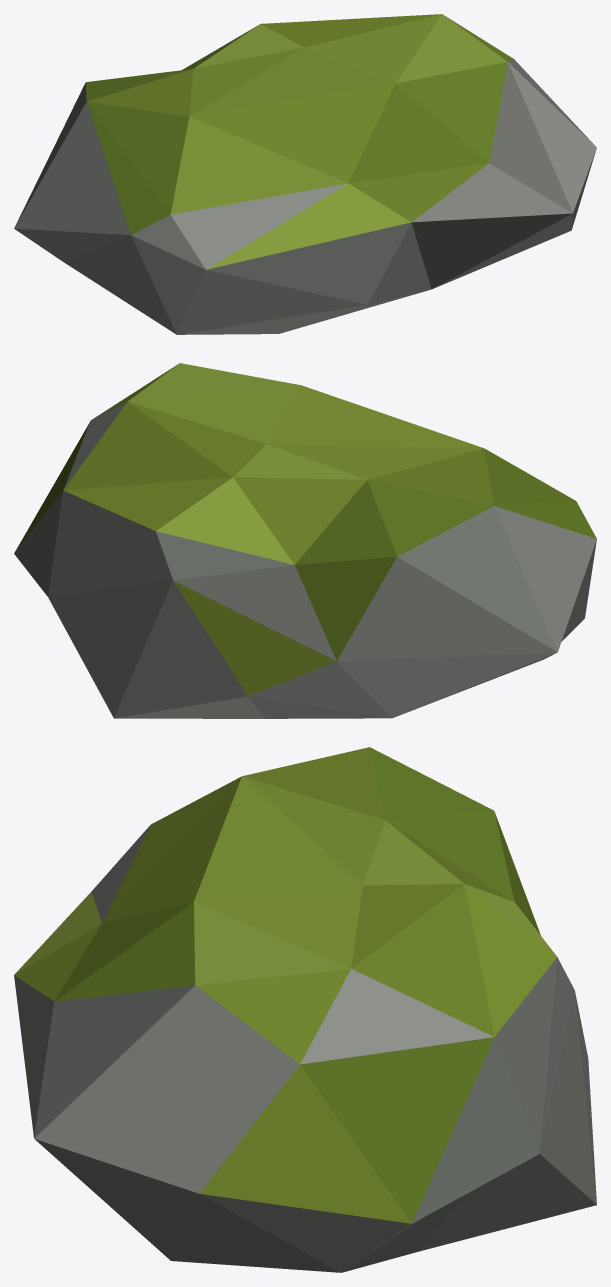
The model's file is zen_rock_low.glb.
The picture shows the model from 3 angles, top to bottom: view 1: azimuth 30°, elevation 25°; view 2: azimuth 150°, elevation 25°; view 3: azimuth 270°, elevation 25°; orthographic projection. The views are drawn at different scales.
Parts seen in each view (by area): view 1: zen_rock_low; view 2: zen_rock_low; view 3: zen_rock_low.
Part boxes in pixels (x1,y1,x2,y2): zen_rock_low: [14, 14, 596, 334]; zen_rock_low: [14, 363, 596, 718]; zen_rock_low: [14, 747, 596, 1272].
Size of the model in its own units: 1.91 by 0.8113 by 1.38.
